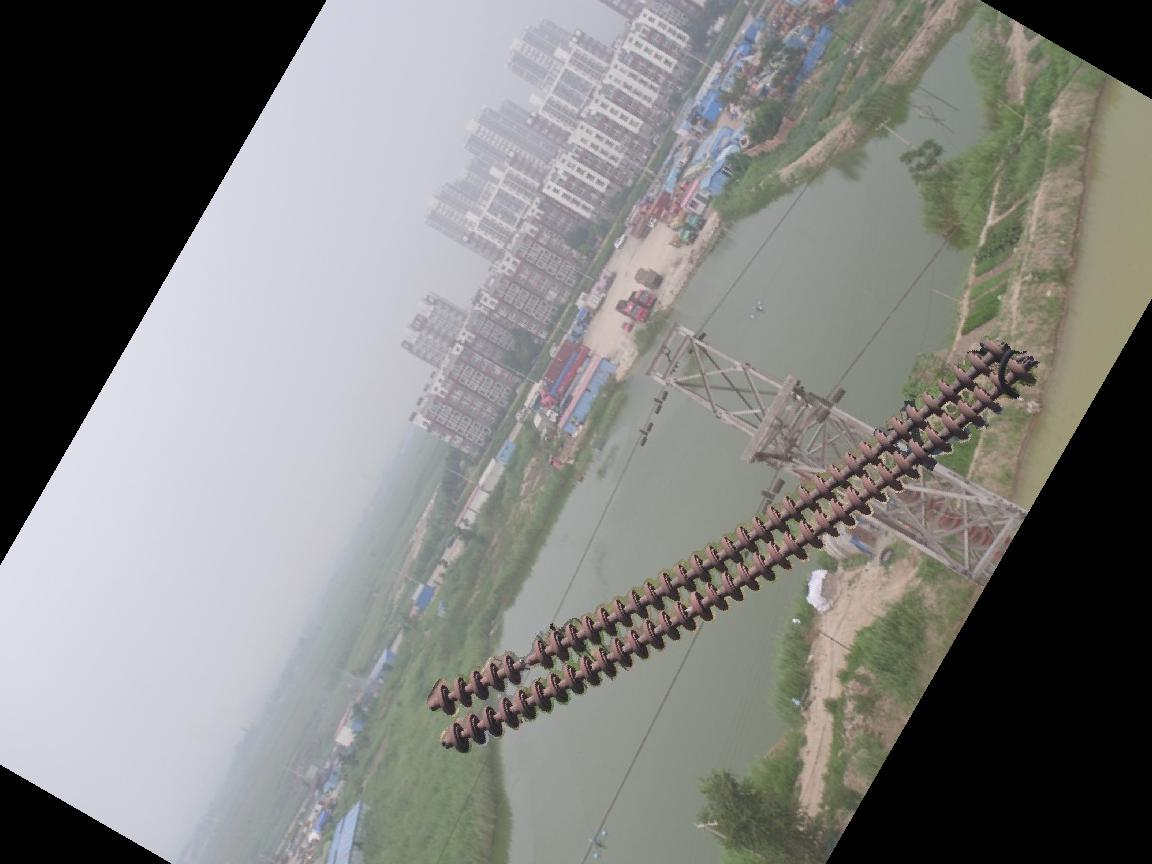insulator: (428, 330, 1040, 753), (905, 482, 999, 551)
insulator_stringdrop: (500, 634, 555, 688)
